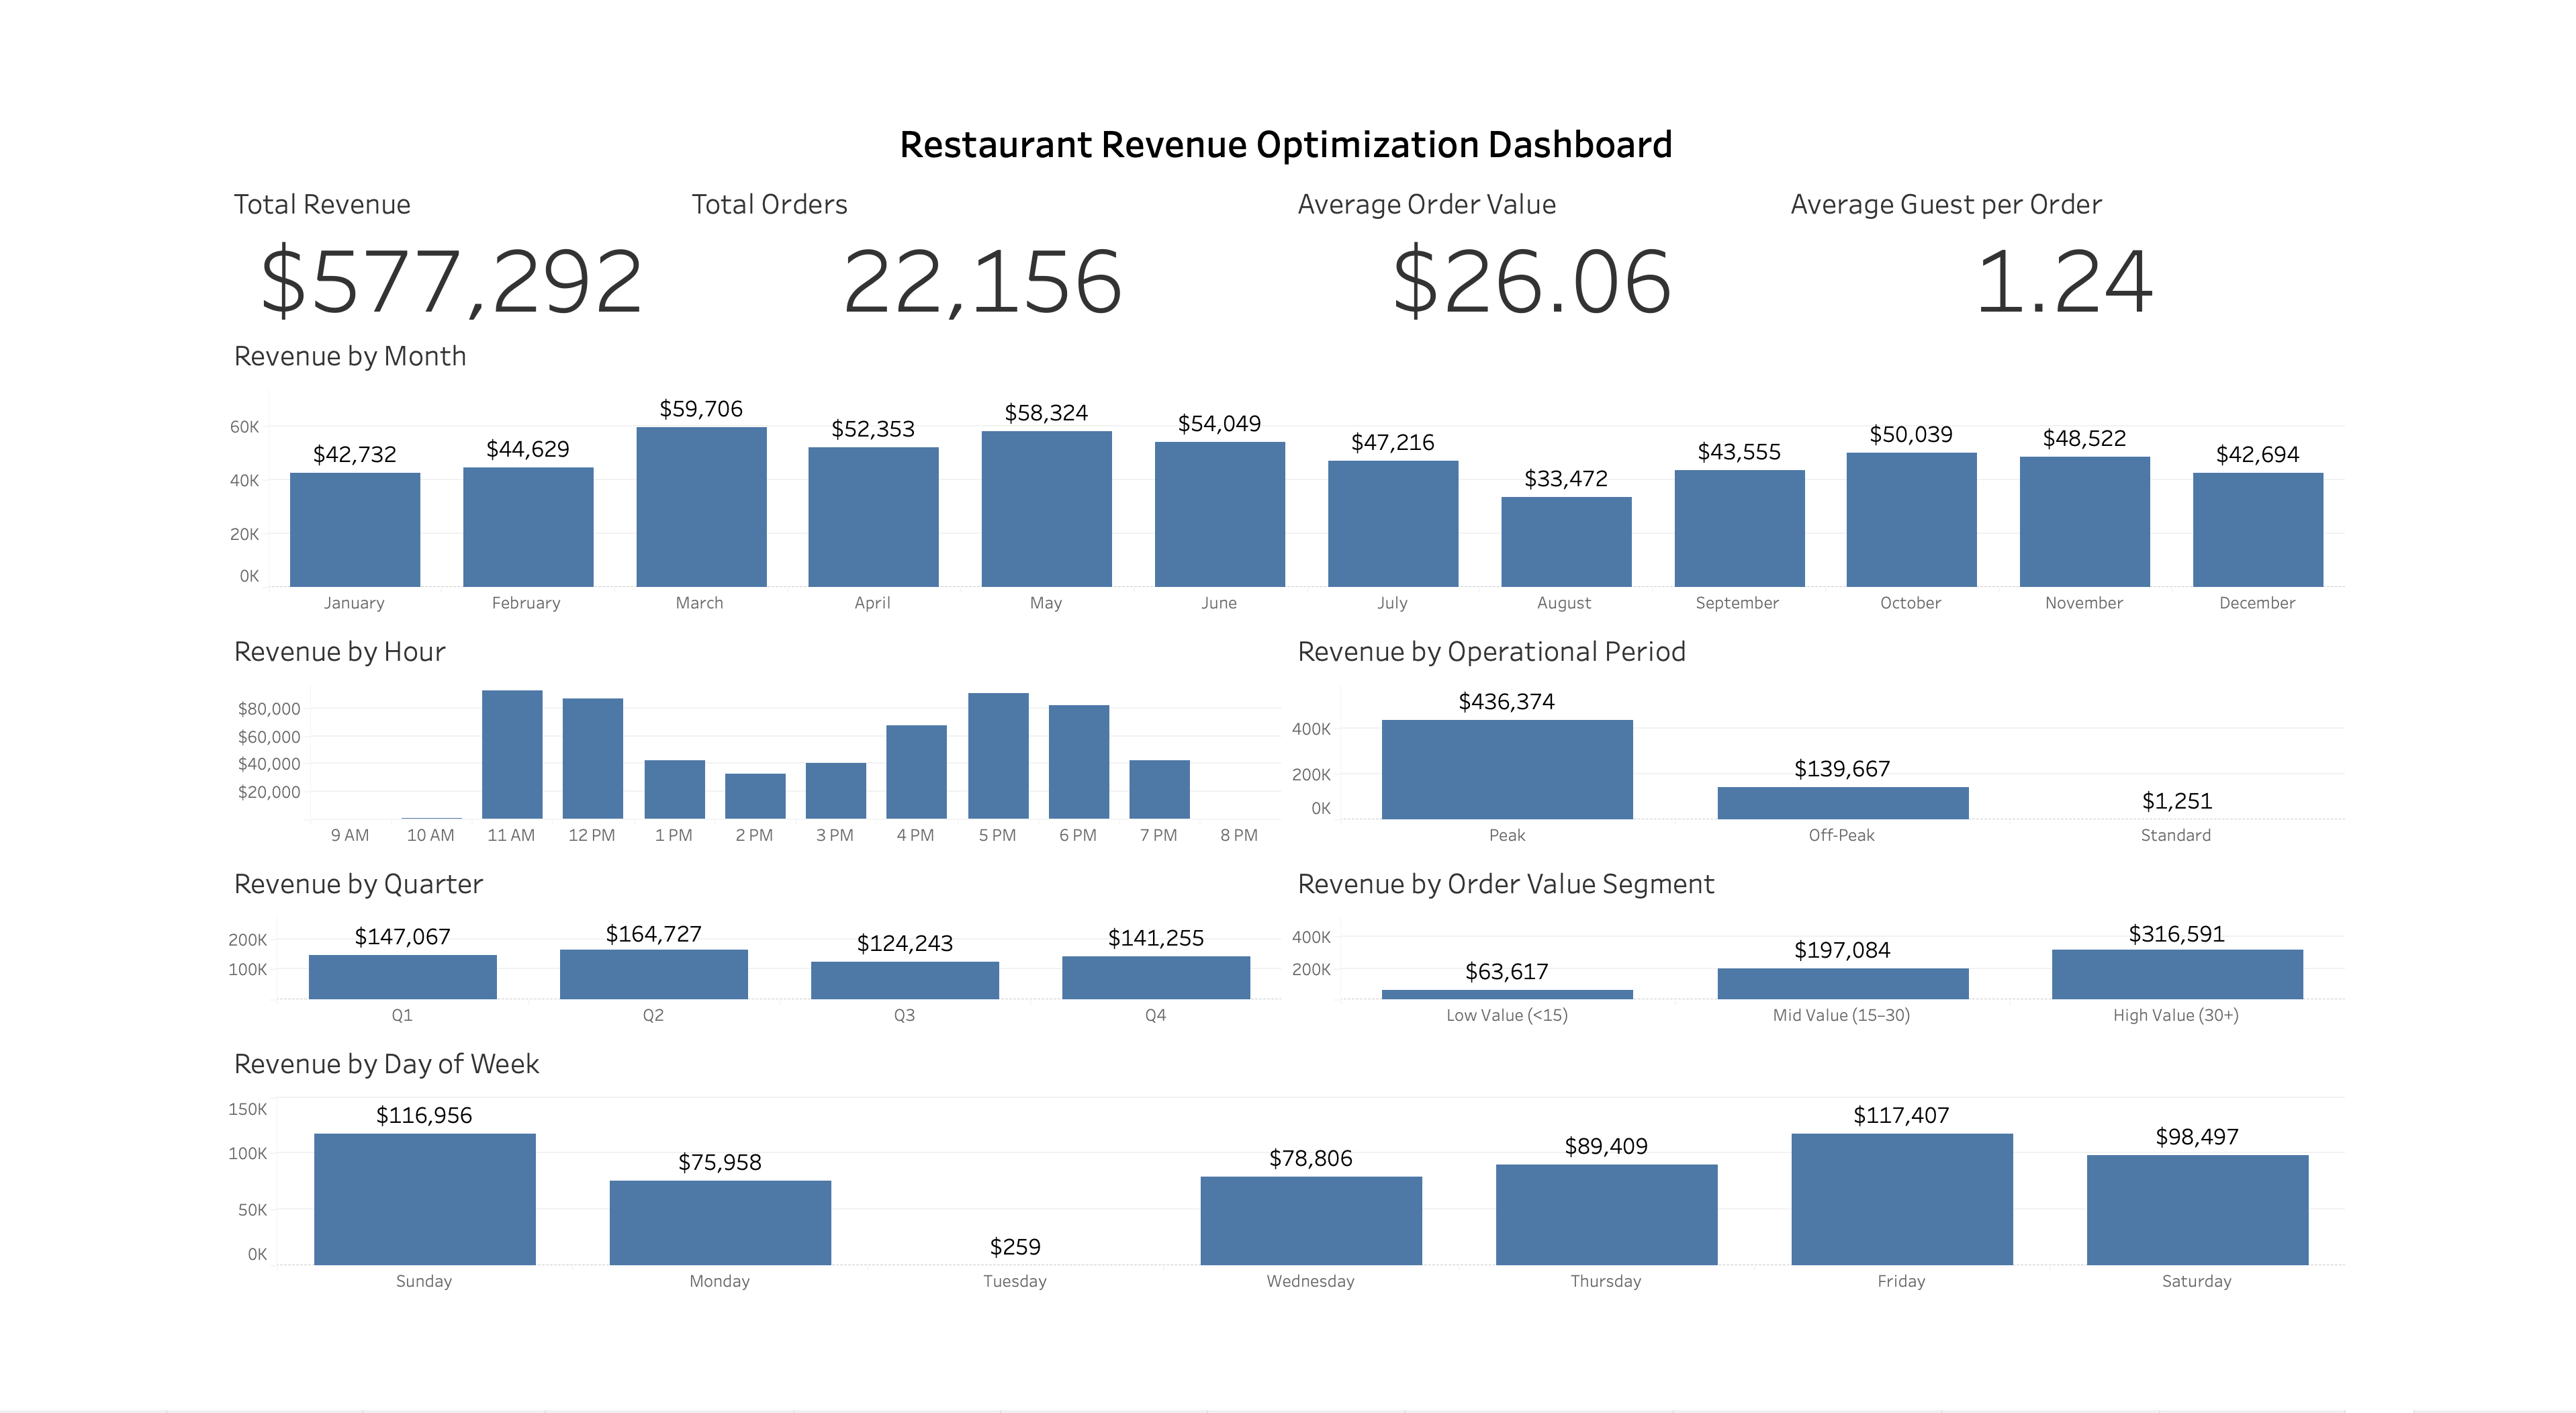

The dashboard page shown, as its layout file describes it:
{"tool":"tableau","page":{"name":"Restaurant Revenue Optimization Dashboard","canvas":[1600,900],"ordinal":0},"visuals":[{"type":"text","box":[8,8,1584,46]},{"type":"worksheet","title":"01_KPI_Total_Revenue","mark":"Automatic","box":[8,54,341,113]},{"type":"worksheet","title":"02_KPI_Total_Orders","mark":"Automatic","box":[349,54,451,113]},{"type":"worksheet","title":"03_KPI_Average_Order_Value","mark":"Automatic","box":[800,54,367,113]},{"type":"worksheet","title":"04_KPI_Average_Guests","mark":"Automatic","box":[1167,54,425,113]},{"type":"worksheet","title":"06_Revenue_by_Month","mark":"Bar","rows":["order_total"],"cols":["month"],"box":[8,167,1584,220]},{"type":"worksheet","title":"10_Revenue_by_Hour","mark":"Bar","rows":["order_total"],"cols":["Calculation_0461403363942405"],"box":[8,387,792,173]},{"type":"worksheet","title":"07_Revenue_by_Operational_Period","mark":"Bar","rows":["order_total"],"cols":["operational_period"],"box":[800,387,792,173]},{"type":"worksheet","title":"05_Revenue_by_Quarter","mark":"Bar","rows":["order_total"],"cols":["quarter"],"box":[8,560,792,134]},{"type":"worksheet","title":"08_Revenue_by_Order_Value_Segment","mark":"Bar","rows":["order_total"],"cols":["order_value_segment"],"box":[800,560,792,134]},{"type":"worksheet","title":"09_Revenue_by_Weekday","mark":"Bar","rows":["order_total"],"cols":["order_dow"],"box":[8,694,1584,198]}]}

Visuals, with their boxes in screenshot pixels (x1, y1, x2, y2), scaled from the page's 1600x900 canvas onto the 2576x1413 screenshot:
text: [left=13, top=13, right=2563, bottom=85]
"01_KPI_Total_Revenue" worksheet: [left=13, top=85, right=562, bottom=262]
"02_KPI_Total_Orders" worksheet: [left=562, top=85, right=1288, bottom=262]
"03_KPI_Average_Order_Value" worksheet: [left=1288, top=85, right=1879, bottom=262]
"04_KPI_Average_Guests" worksheet: [left=1879, top=85, right=2563, bottom=262]
"06_Revenue_by_Month" worksheet (Bar marks): [left=13, top=262, right=2563, bottom=608]
"10_Revenue_by_Hour" worksheet (Bar marks): [left=13, top=608, right=1288, bottom=879]
"07_Revenue_by_Operational_Period" worksheet (Bar marks): [left=1288, top=608, right=2563, bottom=879]
"05_Revenue_by_Quarter" worksheet (Bar marks): [left=13, top=879, right=1288, bottom=1089]
"08_Revenue_by_Order_Value_Segment" worksheet (Bar marks): [left=1288, top=879, right=2563, bottom=1089]
"09_Revenue_by_Weekday" worksheet (Bar marks): [left=13, top=1089, right=2563, bottom=1400]
